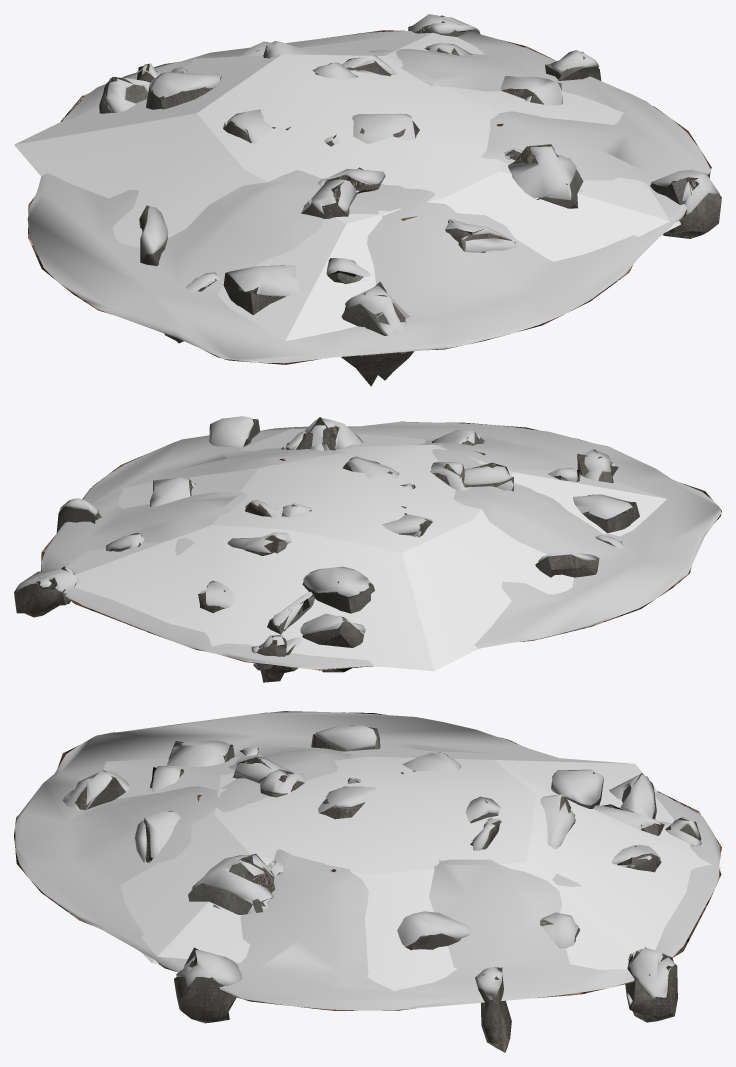
The model's file is Flat_Debriz.fbx.
3 views of the same model, one above another, from view 1: azimuth 30°, elevation 25°; view 2: azimuth 150°, elevation 25°; view 3: azimuth 270°, elevation 25° (orthographic). The views are drawn at different scales.
Parts seen in each view (by area): view 1: snow, Flat_Debriz_col, Flat_Debriz; view 2: Flat_Debriz_col, snow, Flat_Debriz; view 3: snow, Flat_Debriz_col, Flat_Debriz.
Part boxes in pixels (left/top/right/bottom): snow: left=27, top=14, right=719, bottom=363; Flat_Debriz_col: left=14, top=32, right=680, bottom=341; Flat_Debriz: left=28, top=15, right=721, bottom=386; Flat_Debriz_col: left=67, top=428, right=666, bottom=671; snow: left=16, top=416, right=721, bottom=669; Flat_Debriz: left=14, top=417, right=721, bottom=682; snow: left=15, top=711, right=720, bottom=1010; Flat_Debriz_col: left=103, top=745, right=720, bottom=991; Flat_Debriz: left=14, top=712, right=721, bottom=1052.
Size of the model in its own units: 330 by 68.94 by 330.
